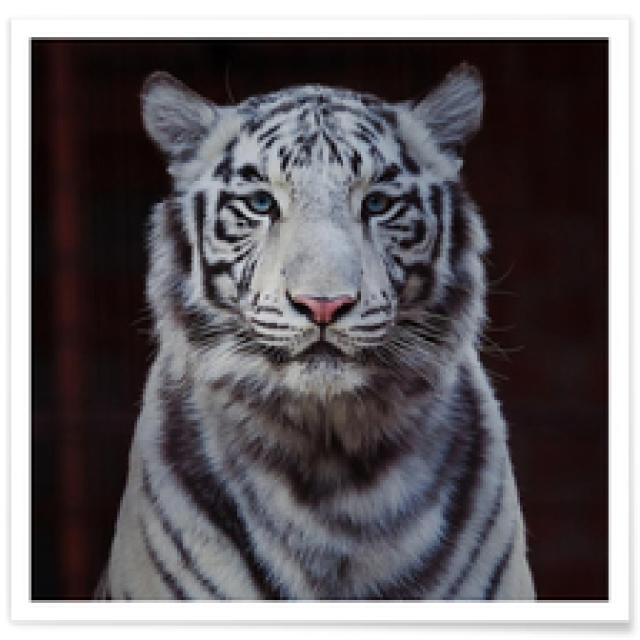tiger: (80, 33, 533, 595)
